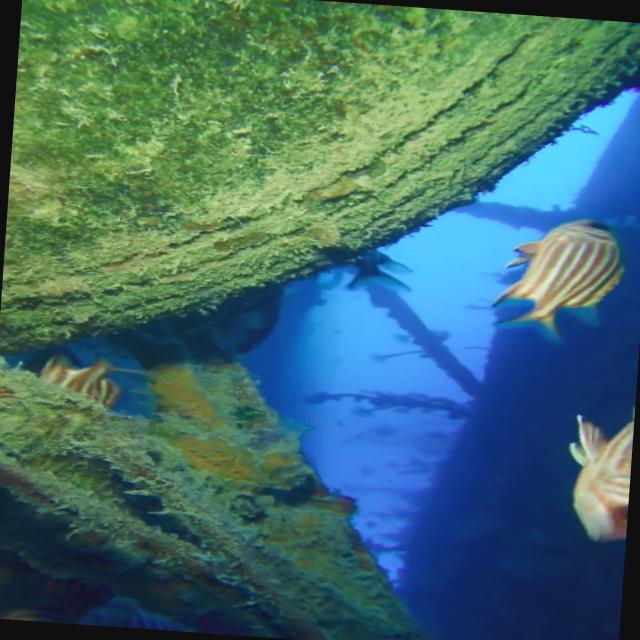Asker Baligi: (486, 210, 630, 346)
